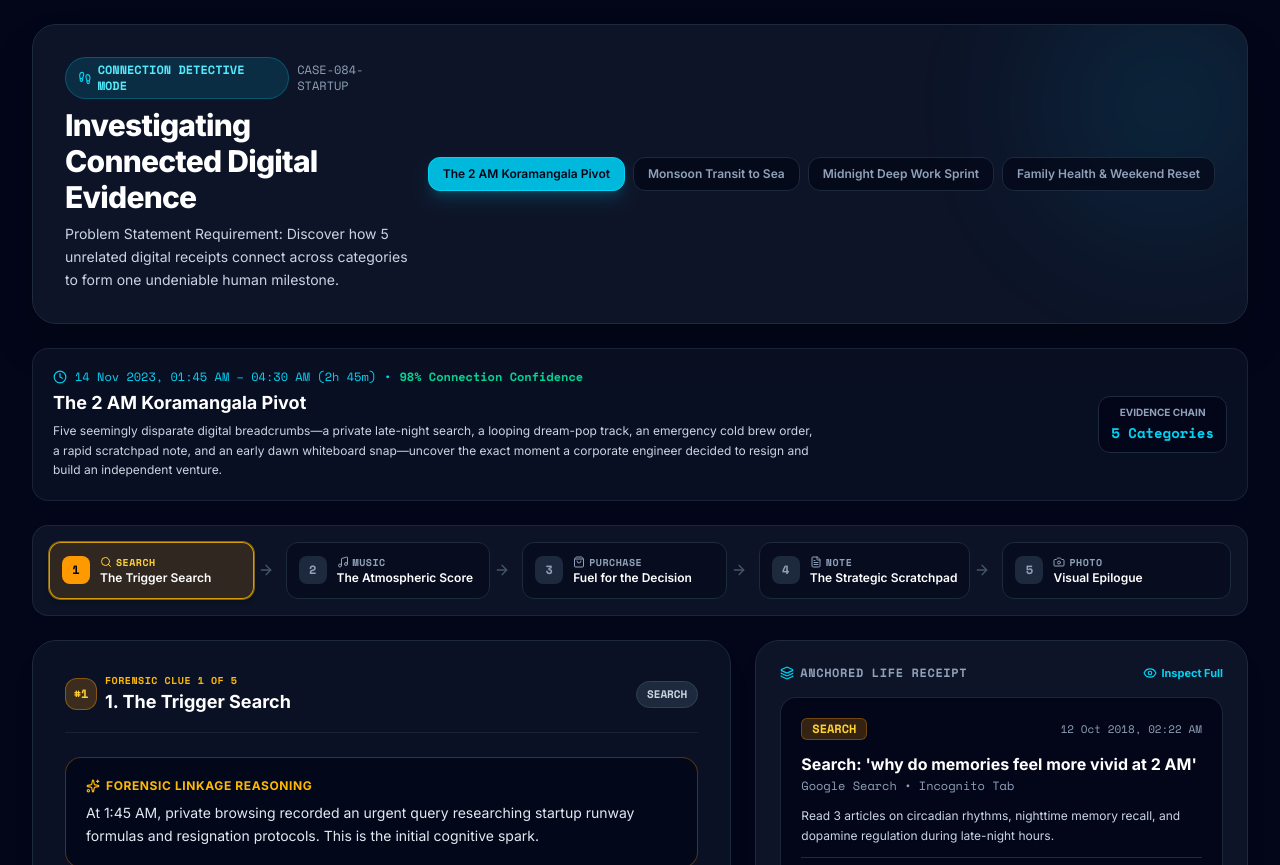
Connection Detective View (Competitive Advantage & Problem Overview Alignment) › switches between investigation chains
This screenshot has width=1280, height=865.
Click the button "Monsoon Transit to Sea" at (716, 174), box x1=633 y1=157 x2=800 y2=191
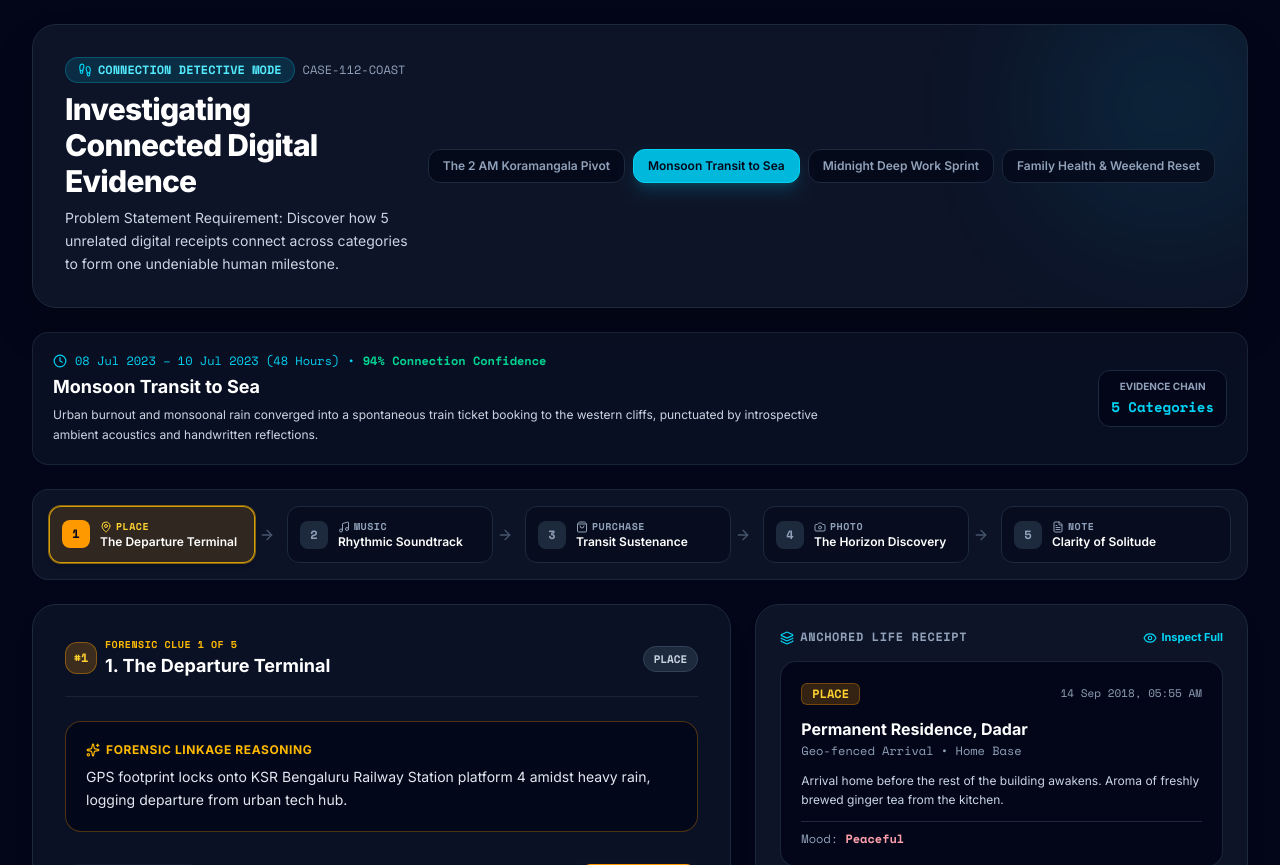
Expected: the text "Monsoon Transit to Sea" is shown, x1=648 y1=158 x2=785 y2=173
Now the text "The Departure Terminal" is shown, box x1=100 y1=534 x2=237 y2=550
